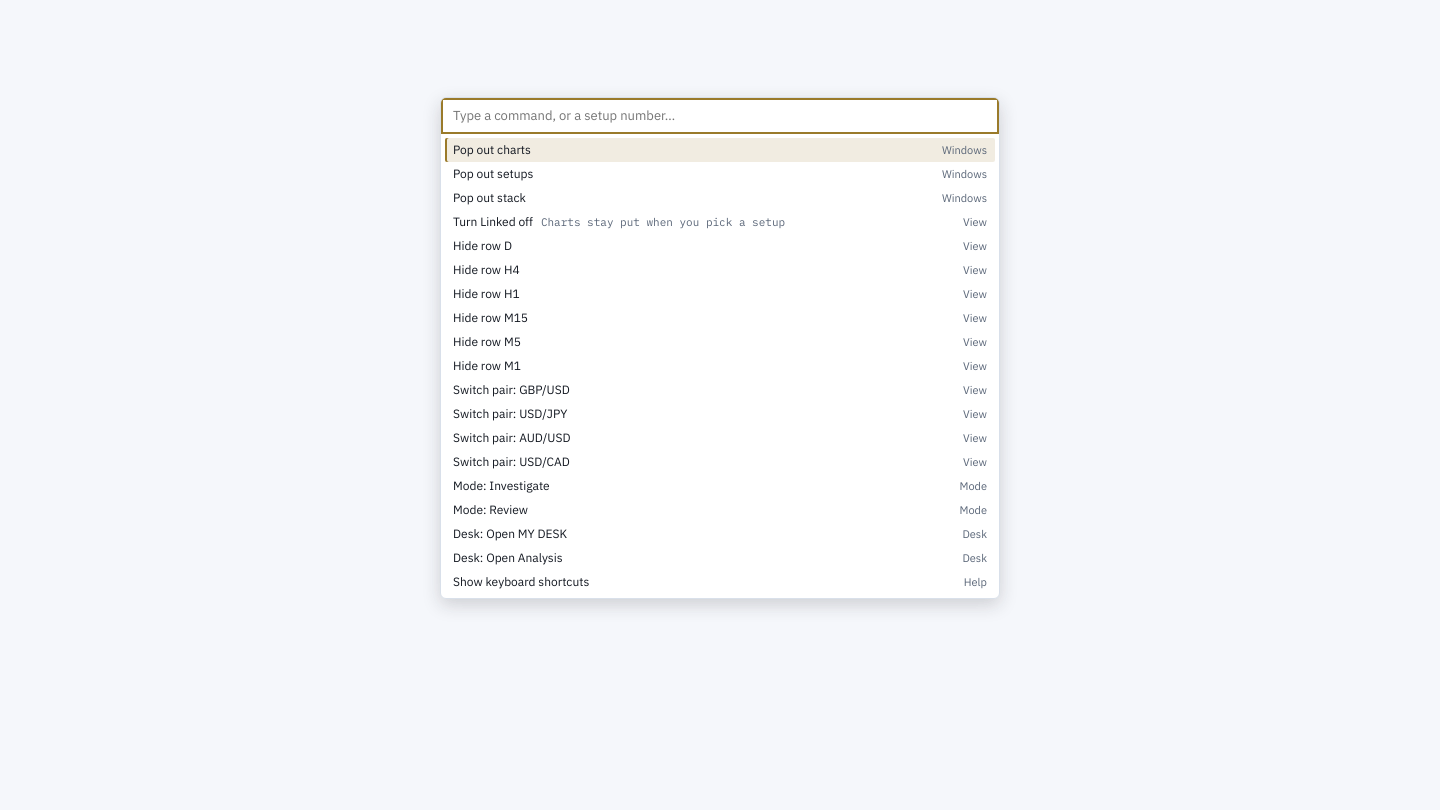
Test: DX11 command palette › Tab keeps focus in the input (trap) and a no-match query says so
The image size is (1440, 810).
Press Tab
In the dropdown: (720, 116) [441,98,999,134], type "qqqqqq"
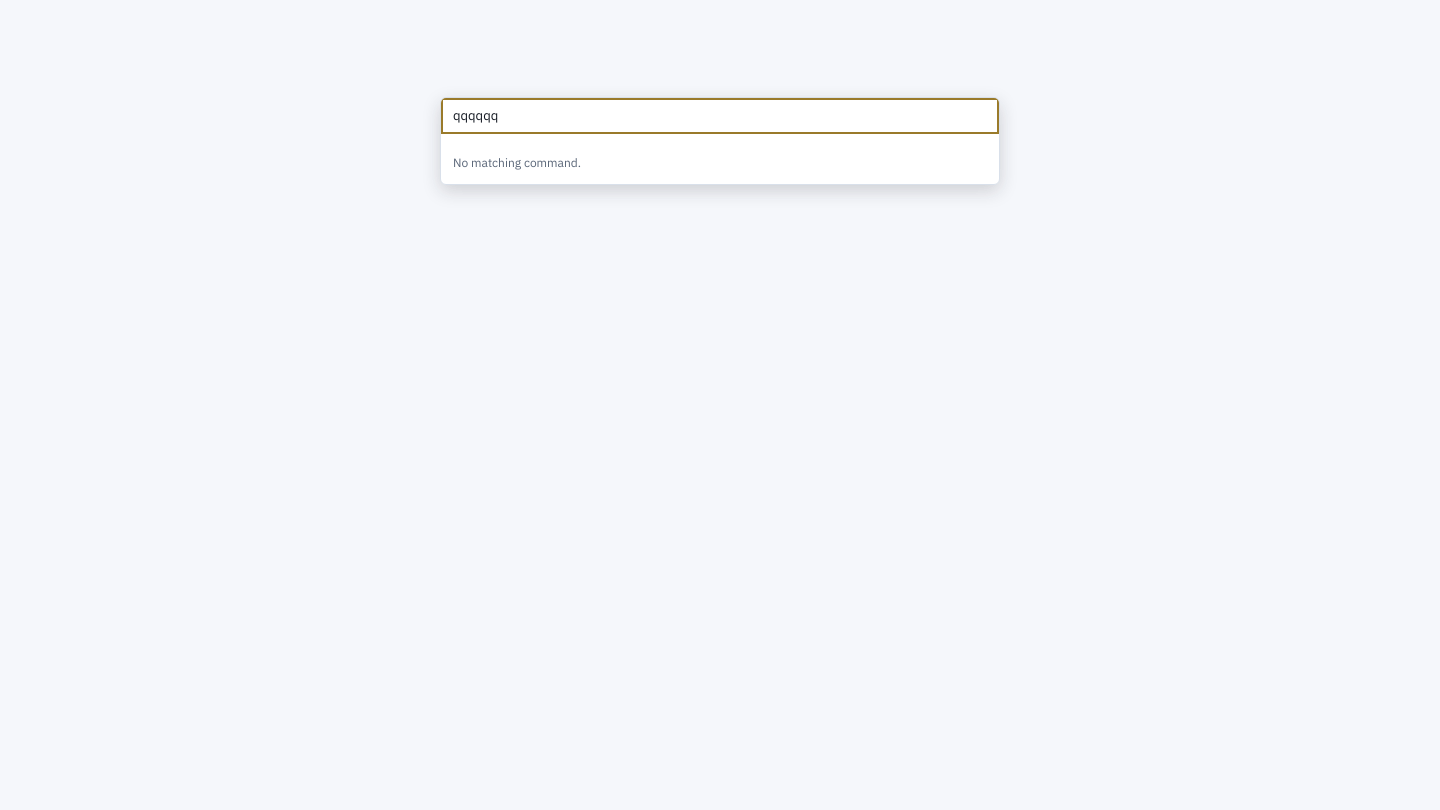
Check: the text "No matching command." is shown, box [453,155,581,170]
Check: no options are shown
